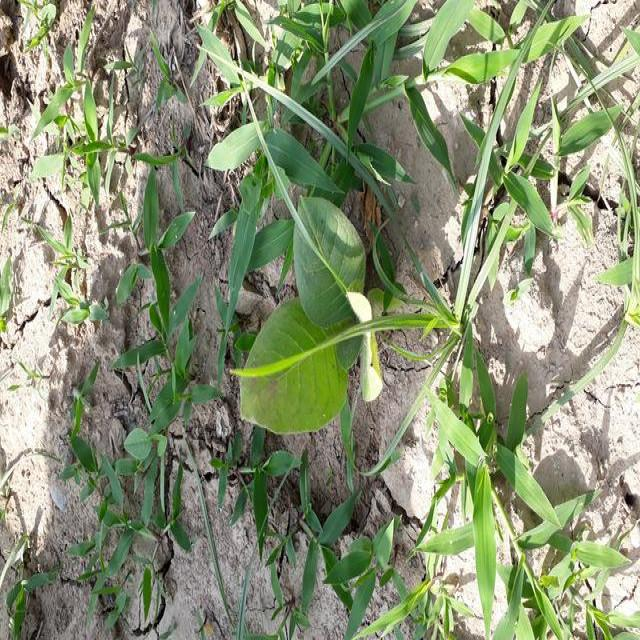crop: (200, 19, 392, 430)
